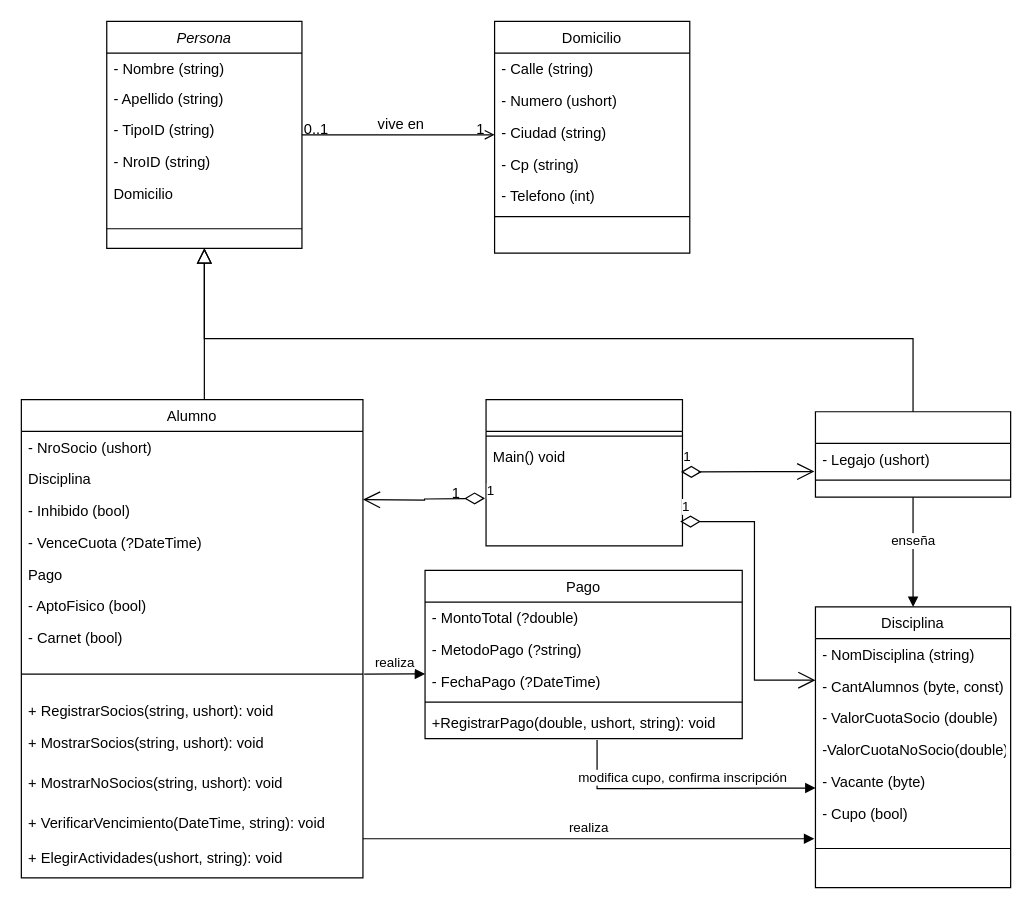
This 1032x909 diagram has some shape labels left out. Each missing label, with the box of its shape:
ClubDeportivo: (485, 398, 682, 546)
Profesor: (814, 411, 1011, 497)
